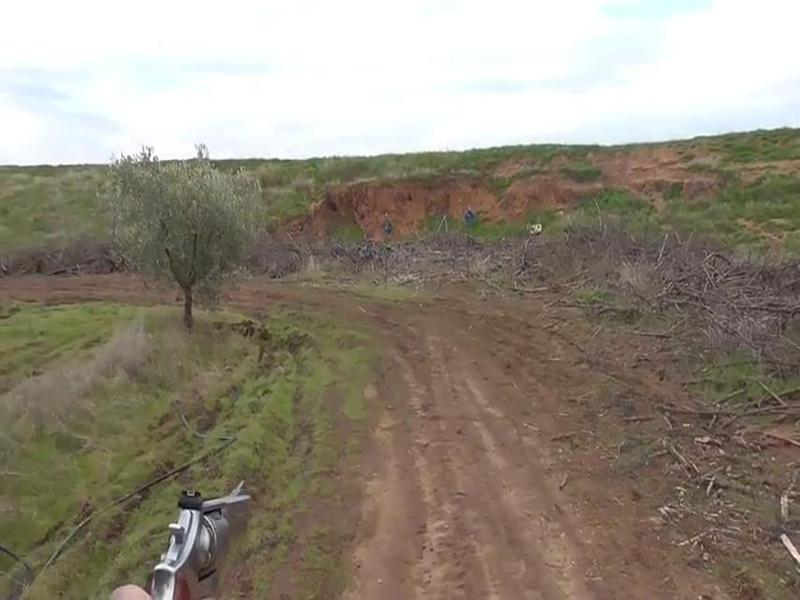Revolver: (123, 467, 263, 600)
